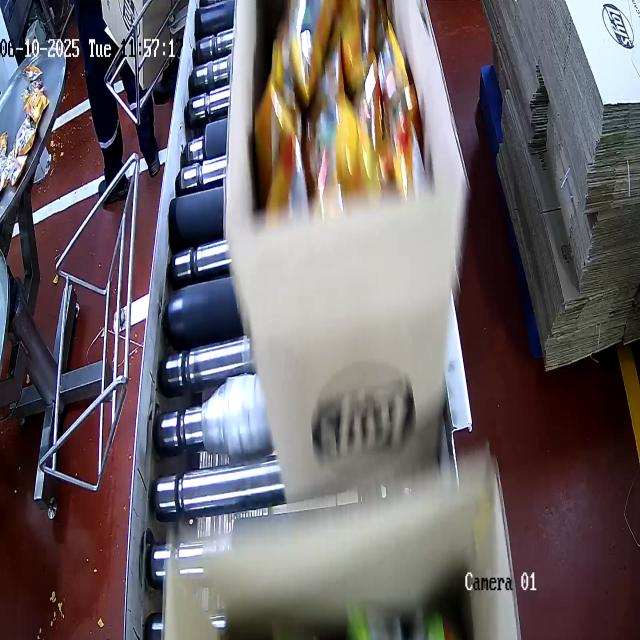FRENCH_CHEESE: (251, 0, 407, 211)
